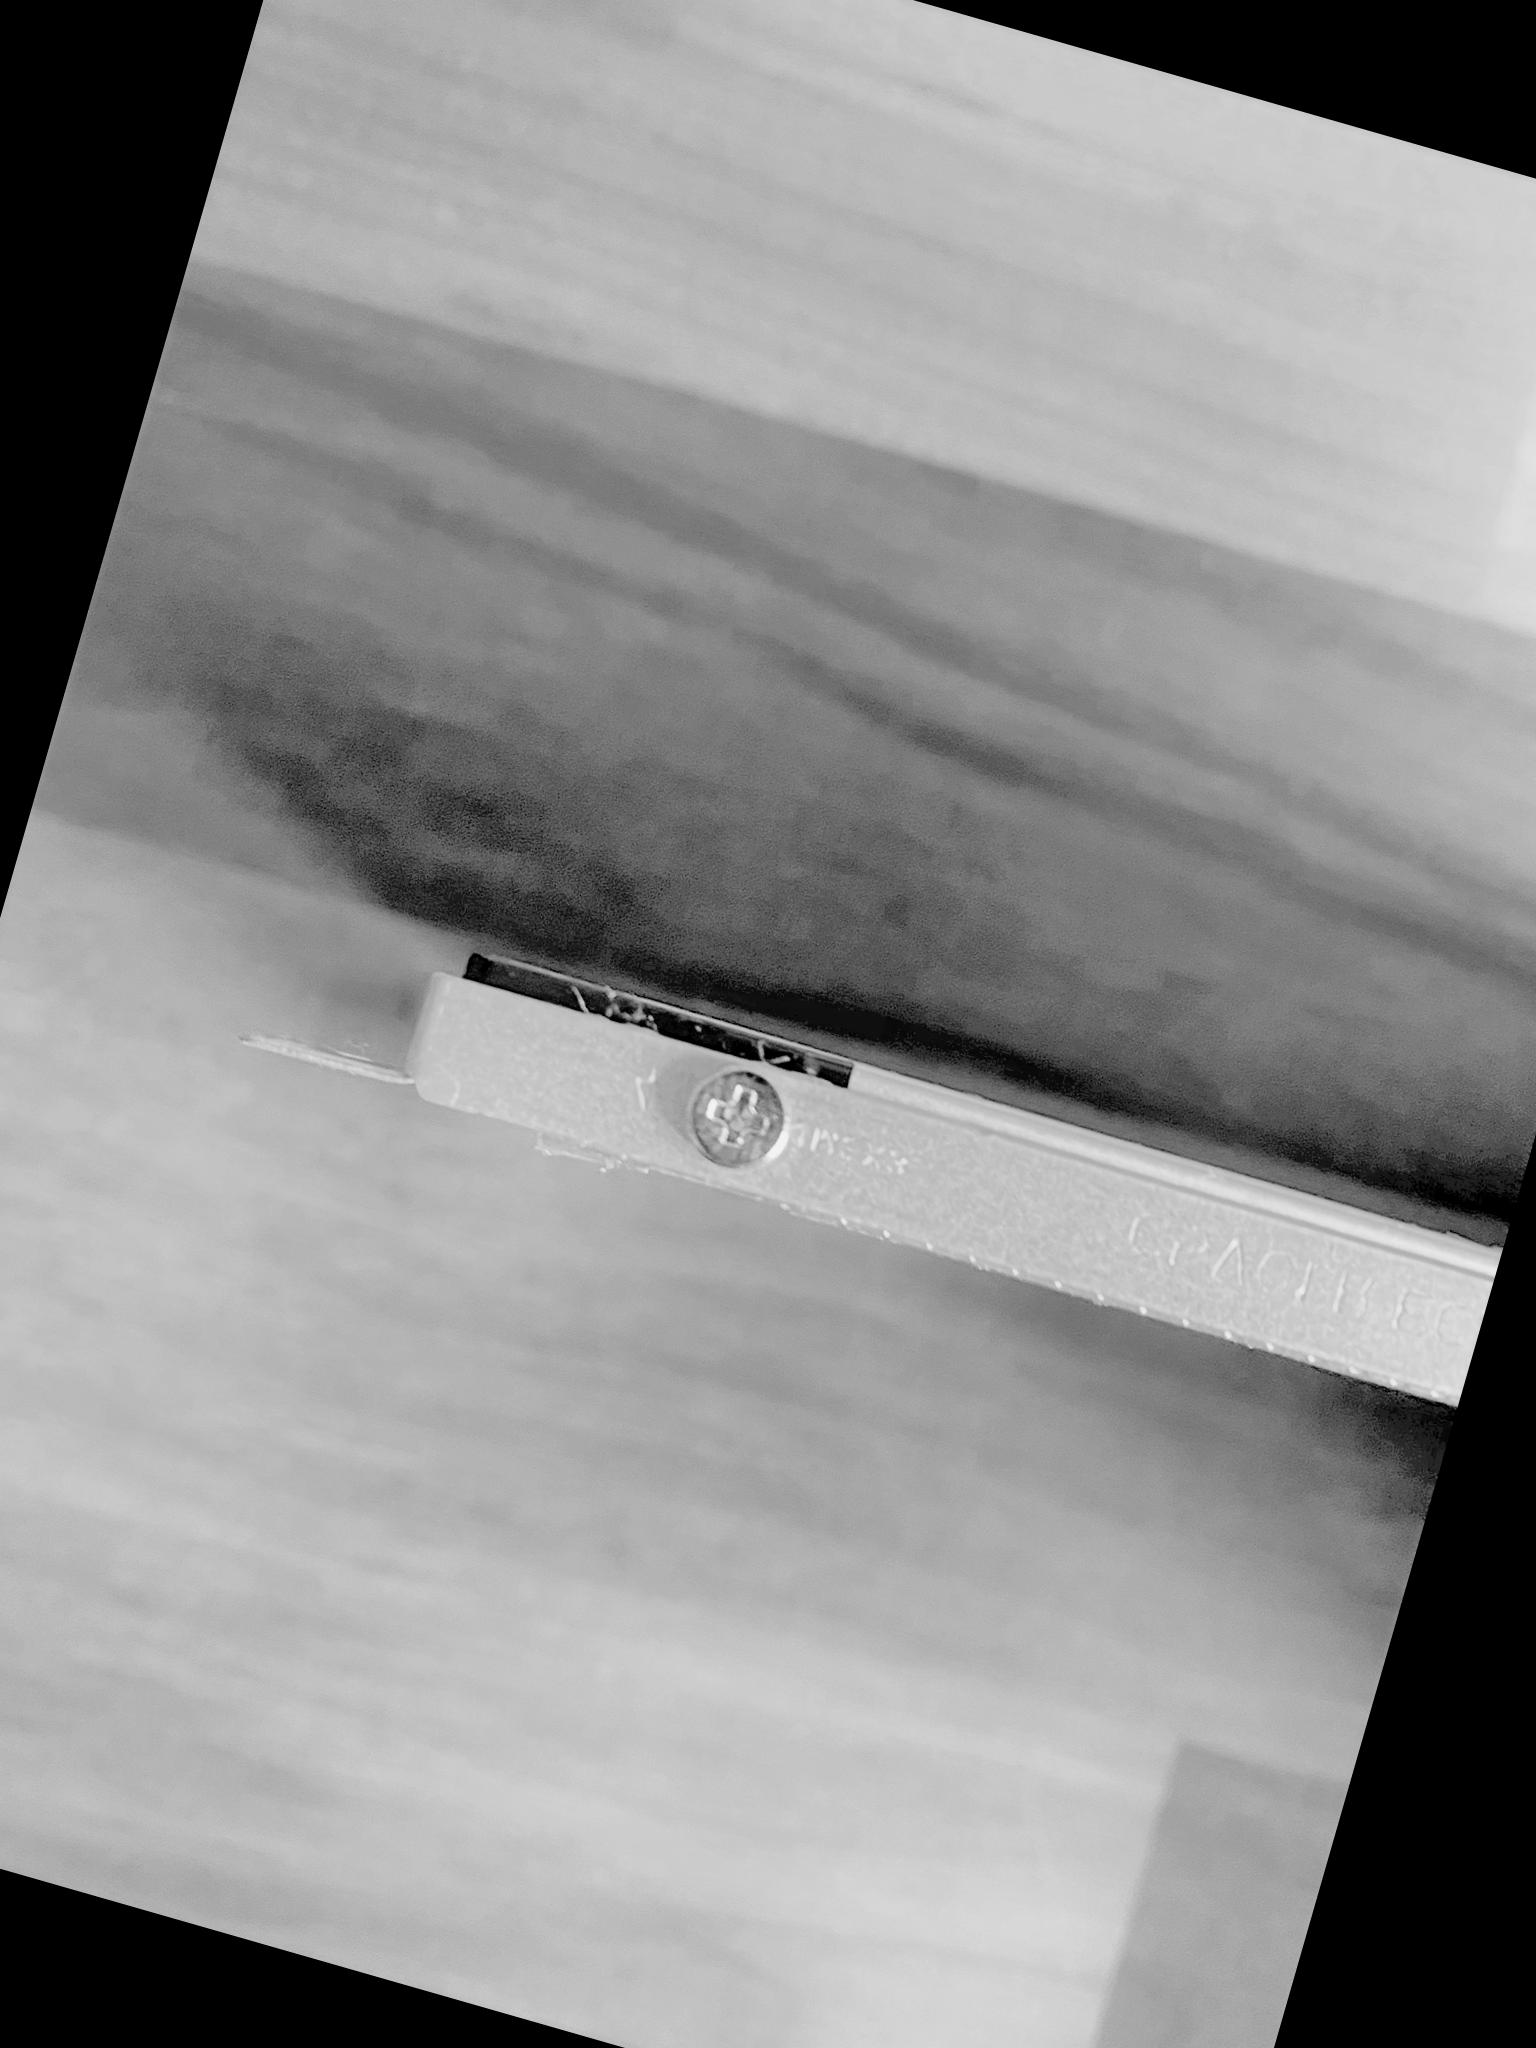screw: (670, 1055, 807, 1187)
